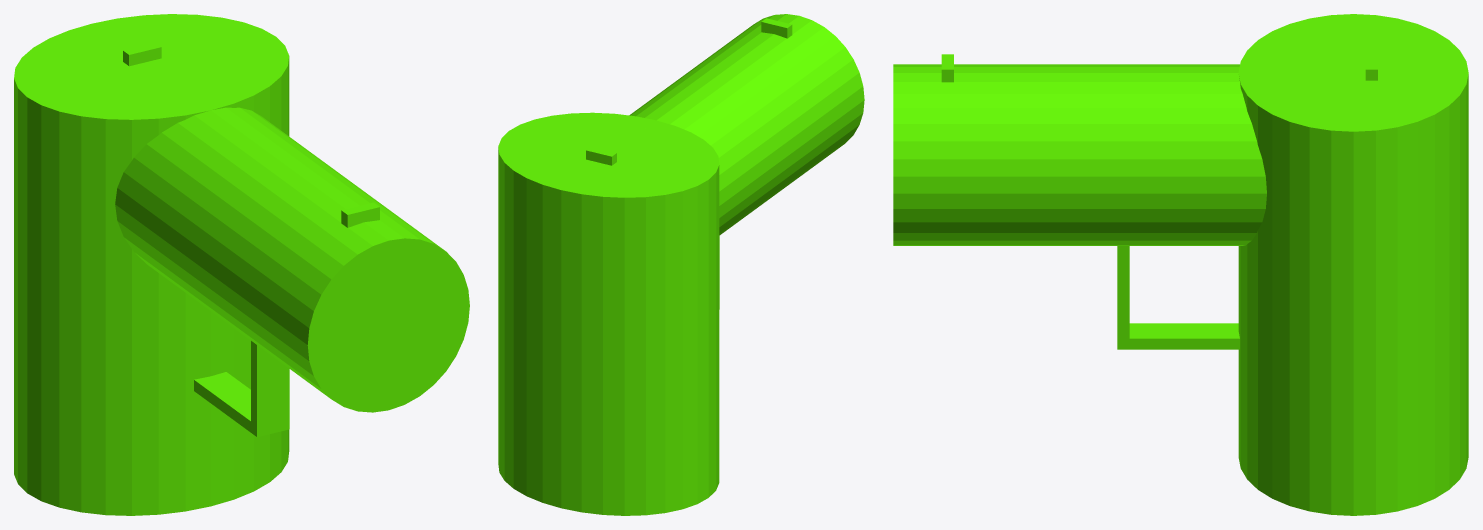
File: gun.obj
The picture shows the model from 3 angles, left to right: view 1: azimuth 30°, elevation 25°; view 2: azimuth 150°, elevation 25°; view 3: azimuth 270°, elevation 25°; orthographic projection. The views are drawn at different scales.
Visible parts, largest first — view 1: Cylinder.001, Cylinder, Cube.002_Cube.003, Cube.003_Cube.004, Cube.001_Cube.002, Cube_Cube.001; view 2: Cylinder.001, Cylinder, Cube.001_Cube.002, Cube_Cube.001; view 3: Cylinder.001, Cylinder, Cube.003_Cube.004, Cube.002_Cube.003.
Boxes of the visible parts, left/top/right/bottom form: Cylinder.001: left=14, top=14, right=289, bottom=515; Cylinder: left=115, top=107, right=469, bottom=412; Cube.002_Cube.003: left=251, top=341, right=289, bottom=437; Cube.003_Cube.004: left=194, top=372, right=250, bottom=432; Cube.001_Cube.002: left=341, top=202, right=379, bottom=227; Cube_Cube.001: left=123, top=42, right=161, bottom=66; Cylinder.001: left=498, top=112, right=719, bottom=515; Cylinder: left=629, top=14, right=864, bottom=235; Cube.001_Cube.002: left=761, top=18, right=792, bottom=38; Cube_Cube.001: left=586, top=147, right=616, bottom=165; Cylinder.001: left=1238, top=14, right=1468, bottom=515; Cylinder: left=893, top=64, right=1266, bottom=245; Cube.003_Cube.004: left=1129, top=323, right=1239, bottom=349; Cube.002_Cube.003: left=1117, top=246, right=1129, bottom=349.
Bounding box in the file's own units: 0.46 × 0.72 × 0.95.
Materials: 6 (6 with a texture image).
